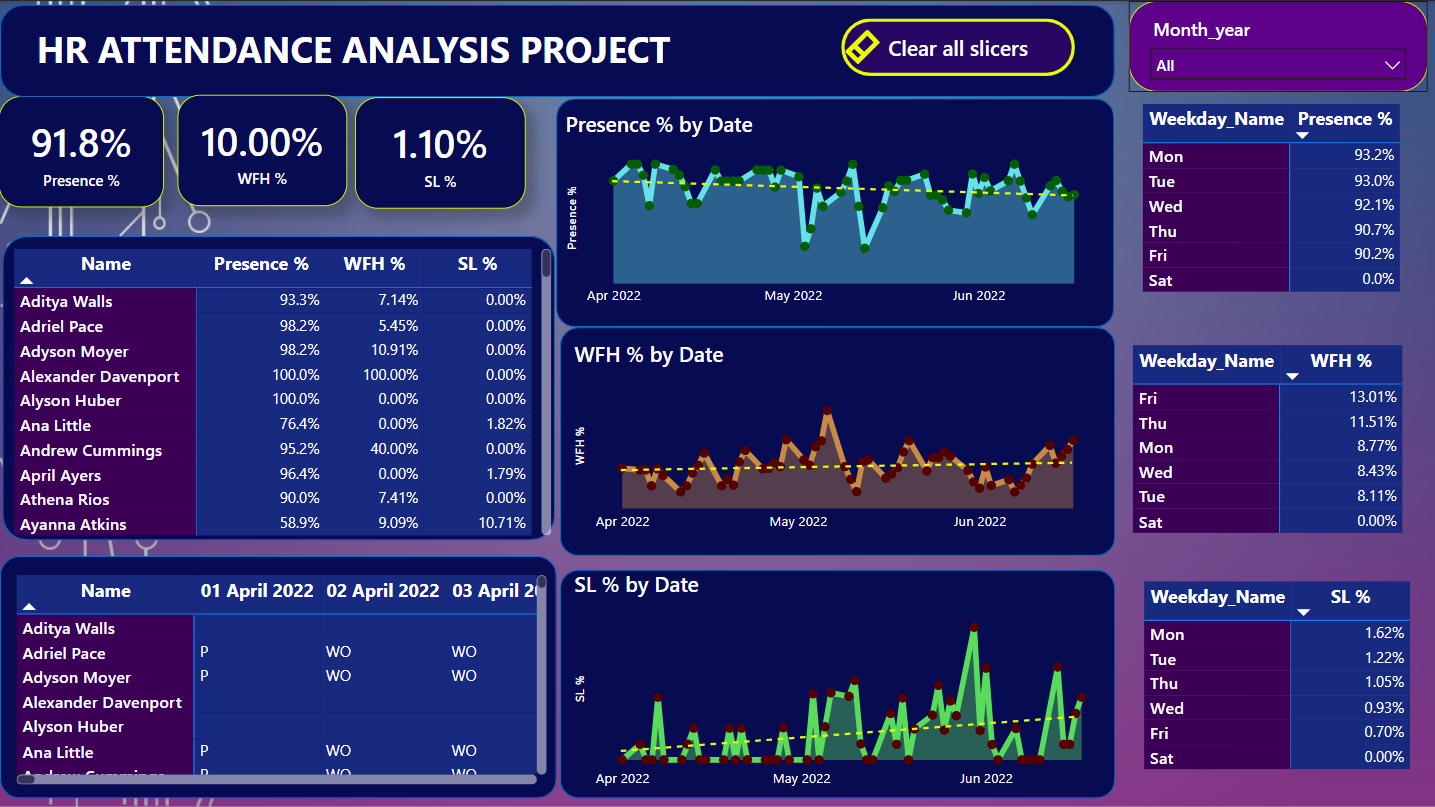

The page's visual inventory and layout, read from the dashboard file:
{"tool":"powerbi","page":{"name":"Dashboard","canvas":[1280,720],"ordinal":0},"visuals":[{"type":"shape","box":[495.7,87.1,496.9,203.7],"z":0},{"type":"shape","box":[2.5,209.8,492,271.2],"z":1000},{"type":"card","fields":{"Values":["Final Data.Presence %"]},"box":[-1.2,84.7,147.2,99.4],"z":2000},{"type":"slicer","fields":{"Values":["Date_Table.Month_year"]},"box":[1004.9,0,266.3,81],"z":3000},{"type":"shape","box":[0,3.7,992.6,82.2],"z":4000},{"type":"textbox","box":[27.8,15.6,632.3,65.7],"z":5000},{"type":"card","fields":{"Values":["Final Data.WFH %"]},"box":[158.3,83.4,150.9,99.4],"z":6000},{"type":"card","fields":{"Values":["Final Data.SL %"]},"box":[316.6,85.9,152.1,99.4],"z":7000},{"type":"pivotTable","fields":{"Rows":["Final Data.Name"],"Values":["Final Data.Presence %","Final Data.WFH %","Final Data.SL %"]},"box":[7.4,216,488.3,265],"z":8000},{"type":"shape","box":[0,494.5,495.7,216],"z":9000},{"type":"pivotTable","fields":{"Rows":["Final Data.Name"],"Values":["Final Data.Text"],"Columns":["Final Data.Date"]},"box":[9.6,506.3,481.6,196.2],"z":10000},{"type":"areaChart","fields":{"Category":["Final Data.Date"],"Y":["Final Data.Presence %"]},"box":[498.2,96.9,487.1,184.1],"z":11000},{"type":"shape","box":[498.2,290.8,494.5,203.7],"z":12000},{"type":"areaChart","fields":{"Category":["Final Data.Date"],"Y":["Final Data.WFH %"]},"box":[506.8,301.8,478.5,180.4],"z":13000},{"type":"shape","box":[498.2,506.8,494.5,203.7],"z":14000},{"type":"areaChart","fields":{"Category":["Final Data.Date"],"Y":["Final Data.SL %"]},"box":[506.8,506.8,485.9,203.7],"z":15000},{"type":"actionButton","box":[749.2,15.6,208.2,51.2],"z":16000},{"type":"pivotTable","fields":{"Rows":["Date_Table.Weekday_Name"],"Values":["Final Data.Presence %"]},"box":[1013.5,87.1,266.3,182.8],"z":17000},{"type":"pivotTable","fields":{"Rows":["Date_Table.Weekday_Name"],"Values":["Final Data.WFH %"]},"box":[1004.5,301.9,266.2,185.2],"z":18000},{"type":"pivotTable","fields":{"Rows":["Date_Table.Weekday_Name"],"Values":["Final Data.SL %"]},"box":[1014.1,511.8,266.2,185.2],"z":19000}]}

Visuals, with their boxes in screenshot pixels (x1, y1, x2, y2), scaled from the page's 1280x720 canvas onto the 1435x807 screenshot:
shape: detection(556, 98, 1113, 326)
shape: detection(3, 235, 554, 539)
card - Final Data.Presence %: detection(0, 95, 164, 206)
slicer - Date_Table.Month_year: detection(1127, 0, 1425, 91)
shape: detection(0, 4, 1113, 96)
textbox: detection(31, 17, 740, 91)
card - Final Data.WFH %: detection(177, 93, 347, 205)
card - Final Data.SL %: detection(355, 96, 525, 208)
pivotTable - Final Data.Name x Final Data.Presence %: detection(8, 242, 556, 539)
shape: detection(0, 554, 556, 796)
pivotTable - Final Data.Name x Final Data.Text: detection(11, 567, 551, 787)
areaChart - Final Data.Date x Final Data.Presence %: detection(559, 109, 1105, 315)
shape: detection(559, 326, 1113, 554)
areaChart - Final Data.Date x Final Data.WFH %: detection(568, 338, 1105, 540)
shape: detection(559, 568, 1113, 796)
areaChart - Final Data.Date x Final Data.SL %: detection(568, 568, 1113, 796)
actionButton: detection(840, 17, 1073, 75)
pivotTable - Date_Table.Weekday_Name x Final Data.Presence %: detection(1136, 98, 1434, 303)
pivotTable - Date_Table.Weekday_Name x Final Data.WFH %: detection(1126, 338, 1425, 546)
pivotTable - Date_Table.Weekday_Name x Final Data.SL %: detection(1137, 574, 1434, 781)
